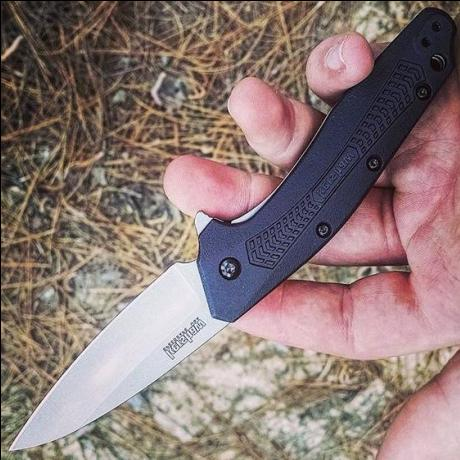1: (164, 27, 460, 460)
weapon: (5, 5, 456, 453)
